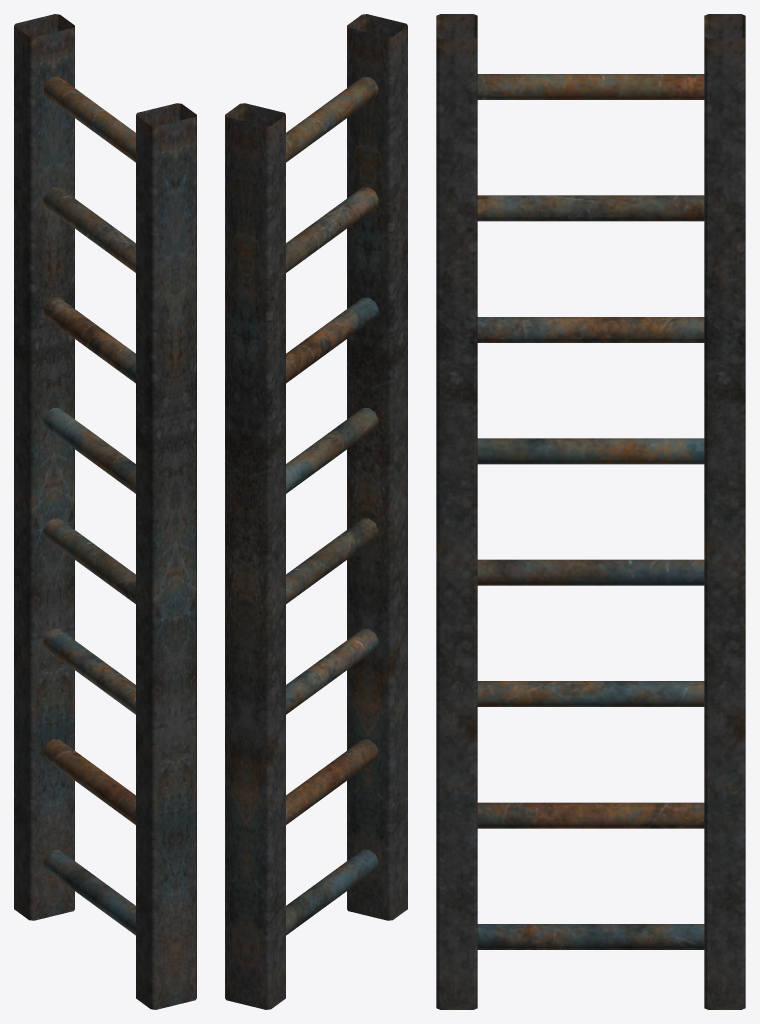
The model's file is Ladder.glb.
3 renders of one model, left to right at view 1: azimuth 30°, elevation 25°; view 2: azimuth 150°, elevation 25°; view 3: azimuth 270°, elevation 25°, orthographic. The views are drawn at different scales.
Parts seen in each view (by area): view 1: Ladder; view 2: Ladder; view 3: Ladder.
Boxes of the visible parts, x1,y1,x2,y2 form: Ladder: (14,14,196,1009); Ladder: (225,14,407,1009); Ladder: (436,14,745,1009).
Bounding box in the file's own units: 0.1089 × 2 × 0.5768.
Materials: 2 (2 with a texture image).
